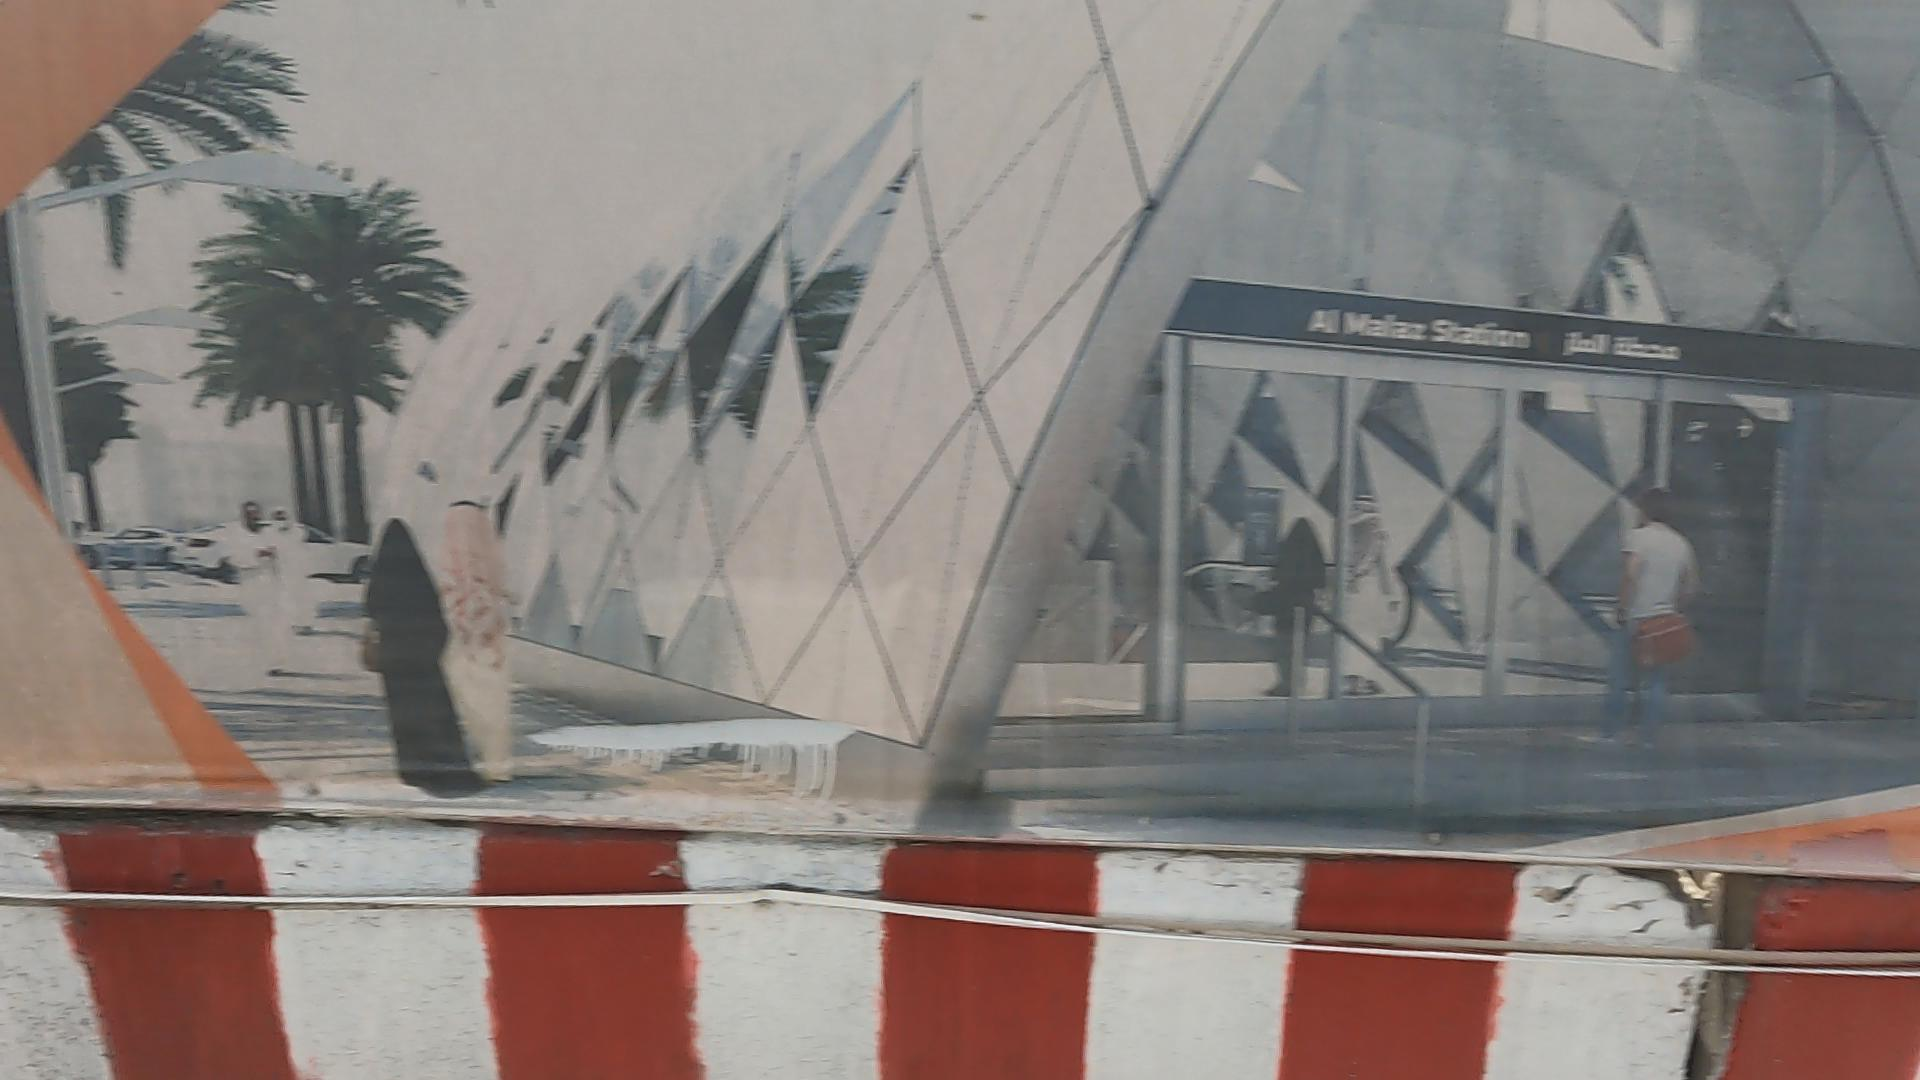BAD_BILLBOARD: (35, 66, 1920, 1062)
